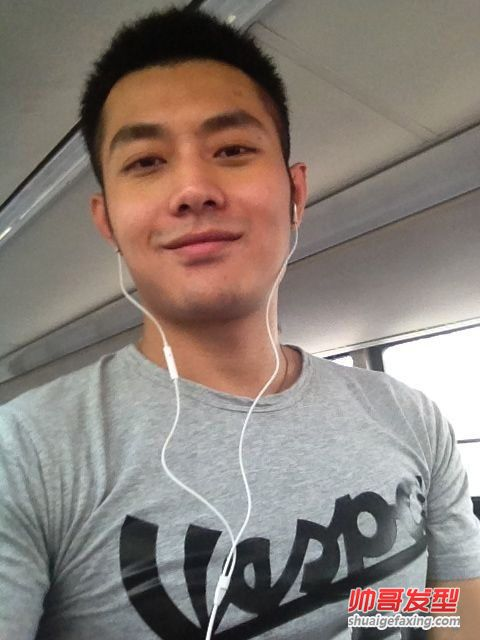person: (58, 17, 393, 536)
